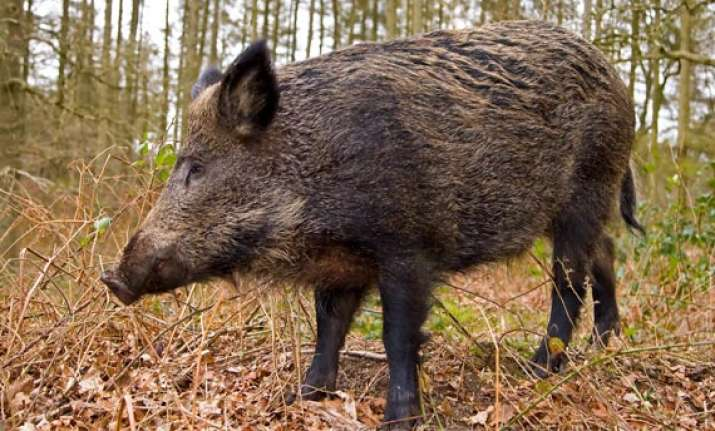wild boar: (106, 16, 660, 416)
